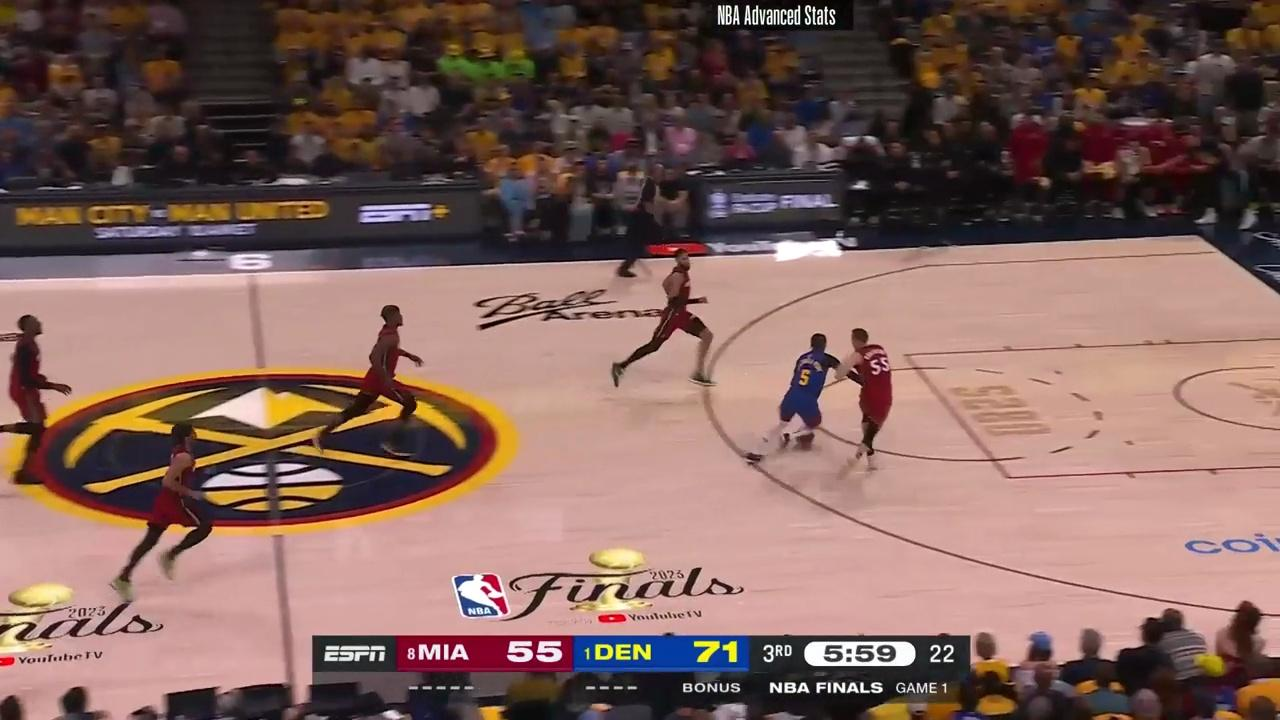Ball: (797, 434, 813, 445)
Dribble: (800, 443, 810, 447)
Person: (114, 424, 220, 595), (615, 247, 724, 389), (767, 328, 854, 466), (342, 300, 423, 428), (832, 325, 900, 475)
Referee: (5, 304, 75, 471)
